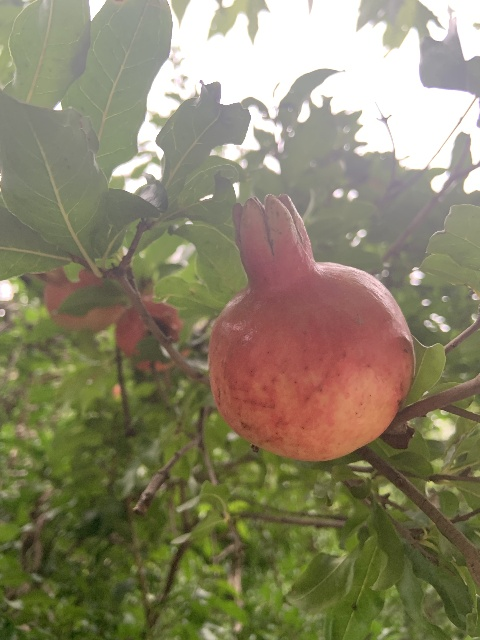ripe: (207, 193, 414, 463), (32, 266, 126, 332), (116, 296, 190, 372)
